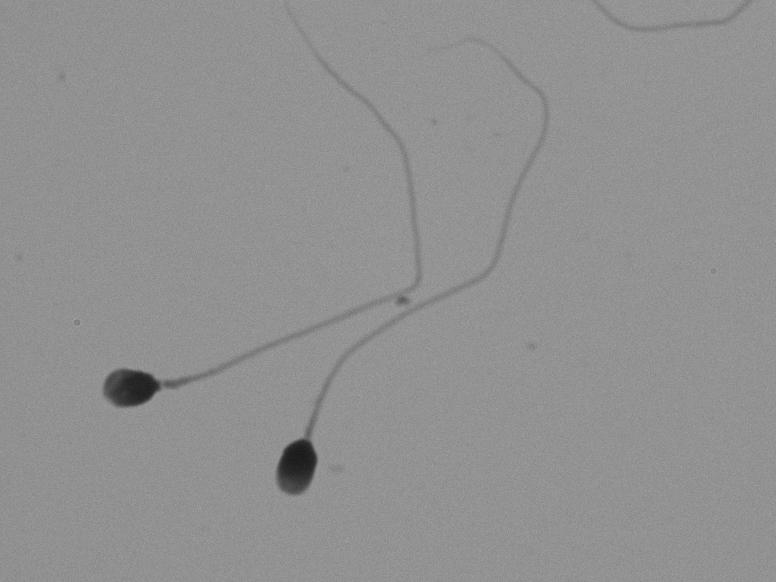Abnormal: (47, 274, 306, 417)
Normal: (264, 165, 536, 541)
